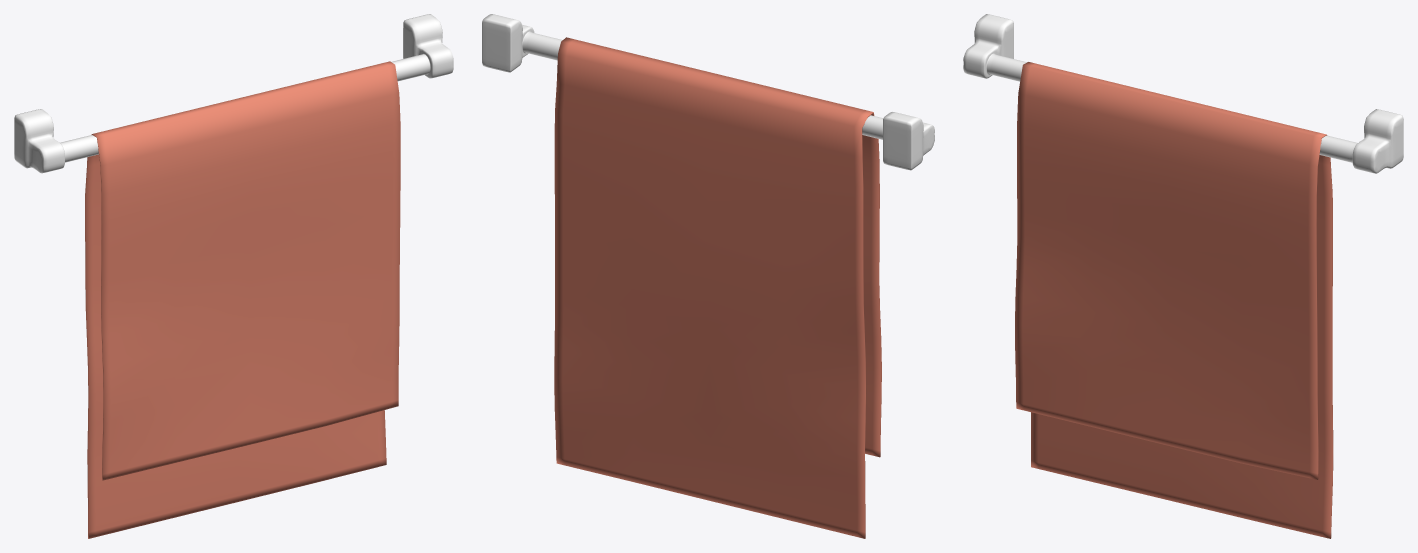
File: TowelRail.fbx
3 renders of one model, left to right at view 1: azimuth 30°, elevation 25°; view 2: azimuth 150°, elevation 25°; view 3: azimuth 330°, elevation 25°, orthographic. The views are drawn at different scales.
Parts seen in each view (by area): view 1: Plane; view 2: Plane; view 3: Plane.
Part boxes in pixels (box(x1,y1,x2,y2)): Plane: box(14, 14, 453, 538); Plane: box(482, 14, 934, 538); Plane: box(963, 14, 1403, 538).
Size of the model in its own units: 236 by 231 by 29.92.
